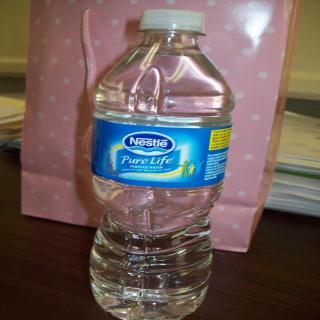Anorganik: (83, 5, 238, 320)
